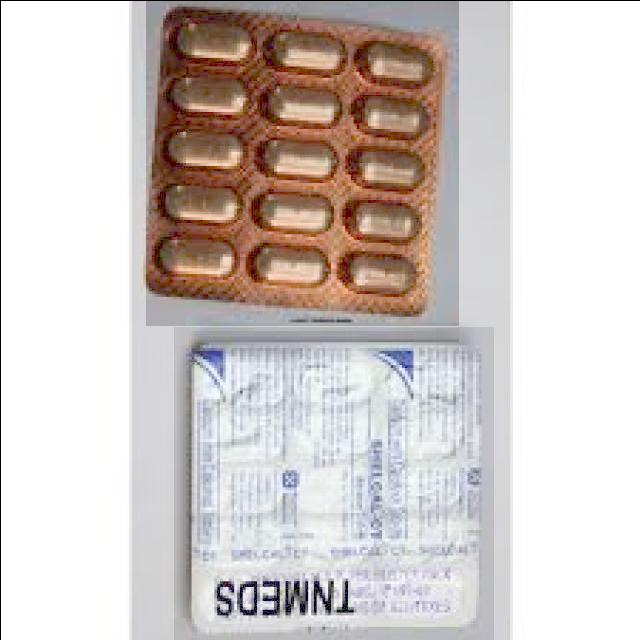authentic: (145, 0, 458, 325), (173, 326, 493, 640)
